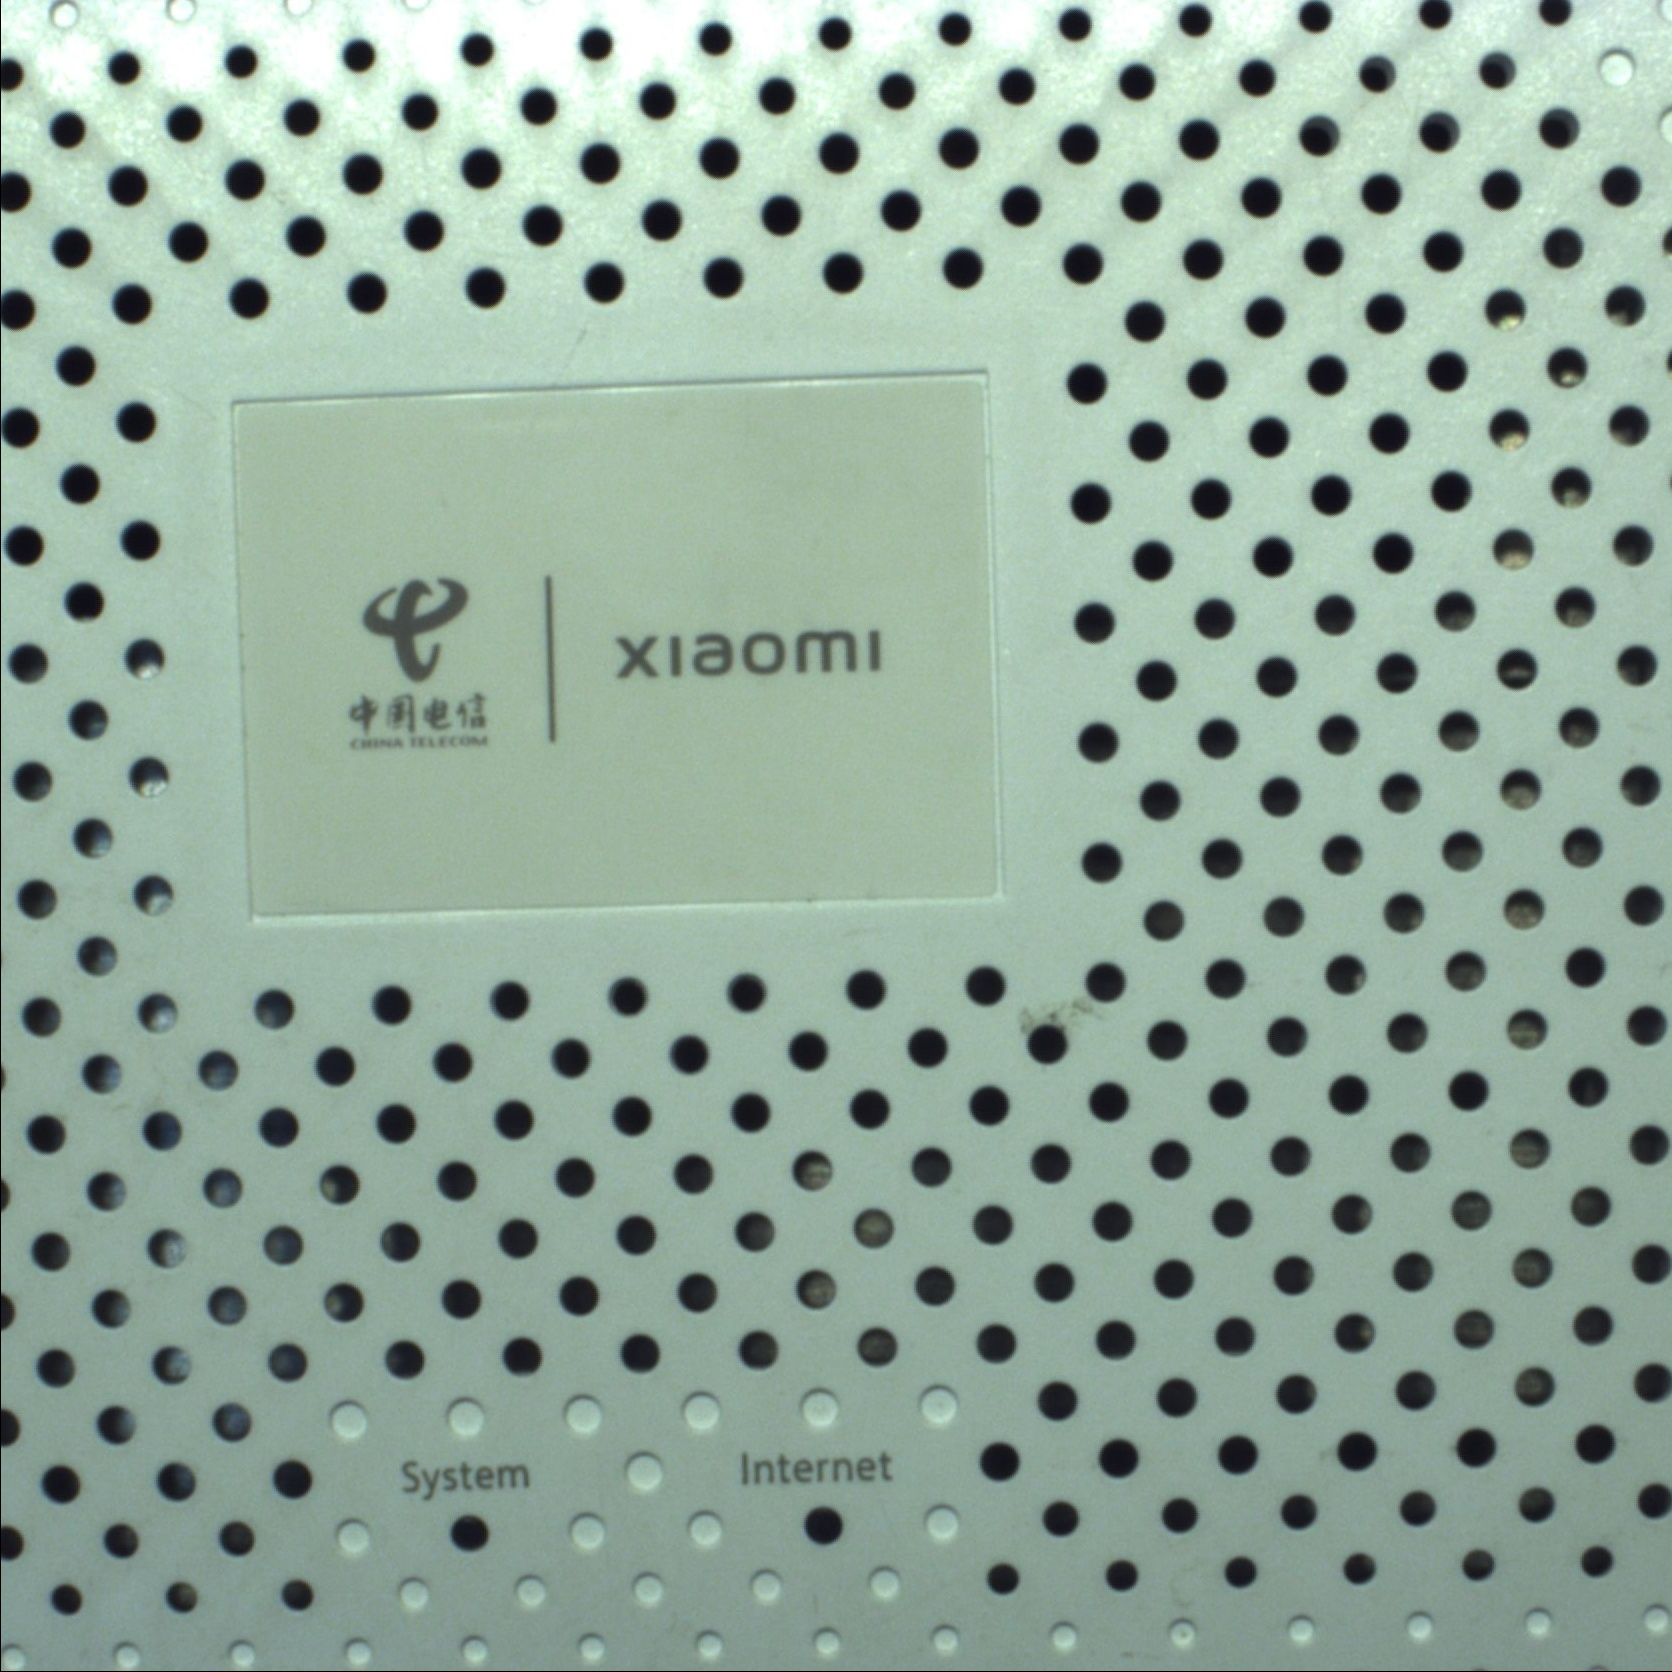MAA_Telecom: (328, 573, 894, 759)
